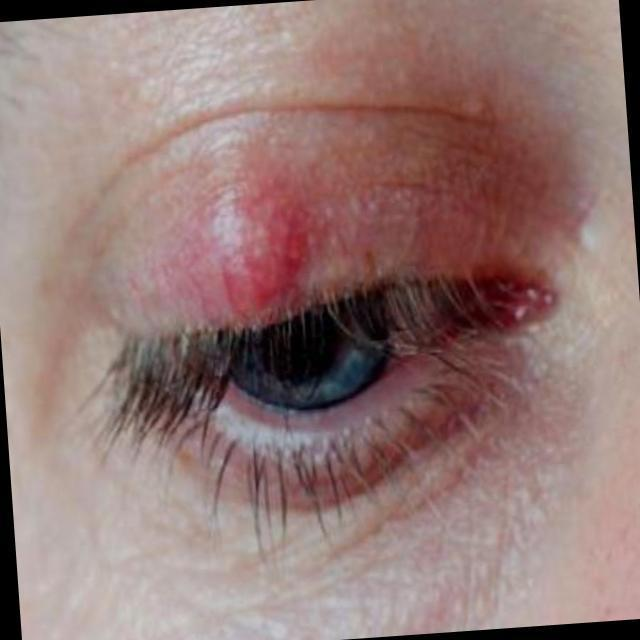Stye: (116, 136, 388, 396)
